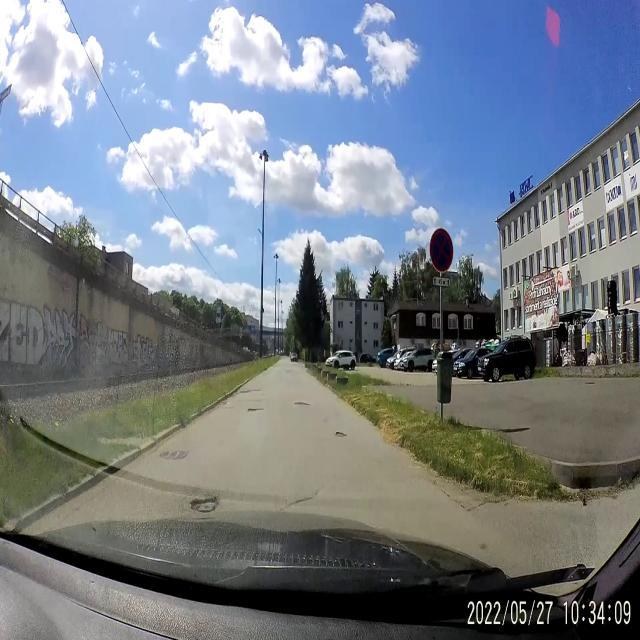Manhole: (157, 443, 192, 465)
Pothole: (186, 484, 224, 518), (280, 486, 318, 513), (334, 422, 348, 444), (244, 402, 264, 416), (240, 388, 263, 396), (292, 400, 310, 407)
